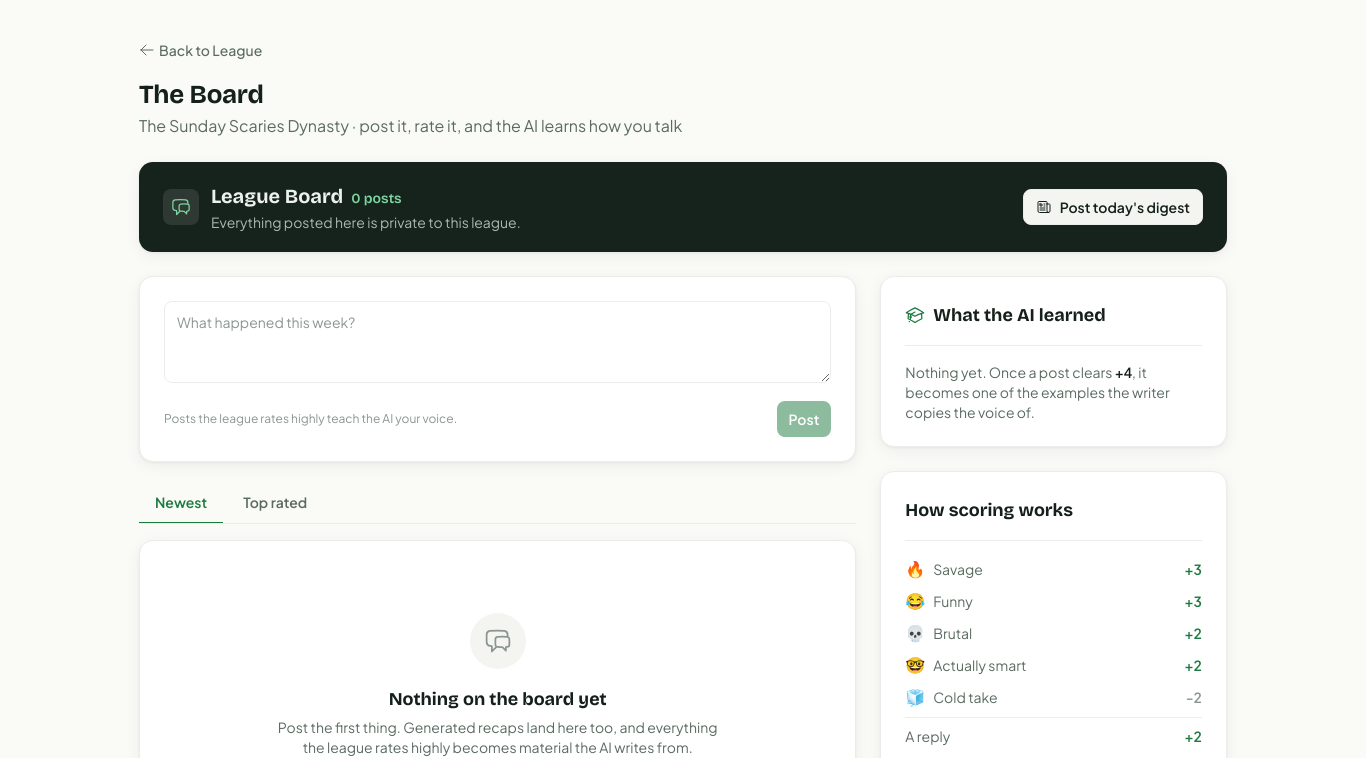
Scenario: BoardPage › switches between newest and top rated
The width and height of the screenshot is (1366, 758).
Click the tab "Top rated". click: (275, 503)
box: [227,482,323,524]
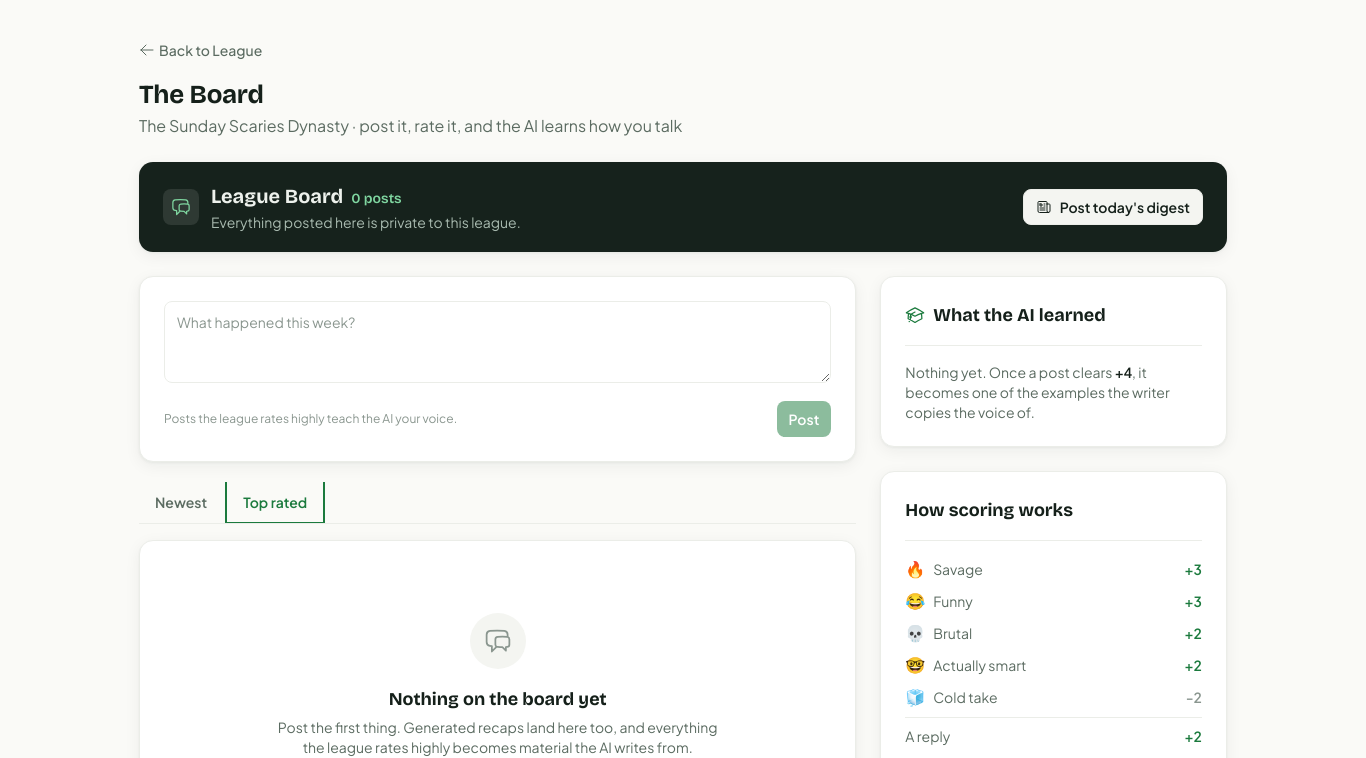
Expected: the tab "Top rated" is selected, [227,482,323,524]
